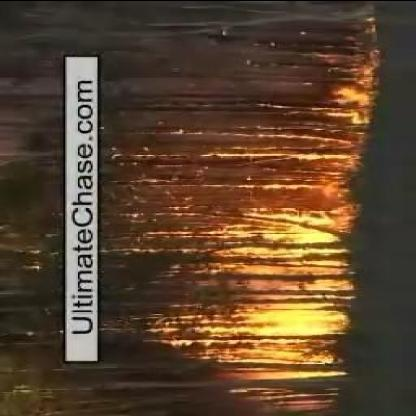foggia-v2-map80-epoch100 - v1 4323: (250, 303, 338, 333), (287, 212, 334, 241)
